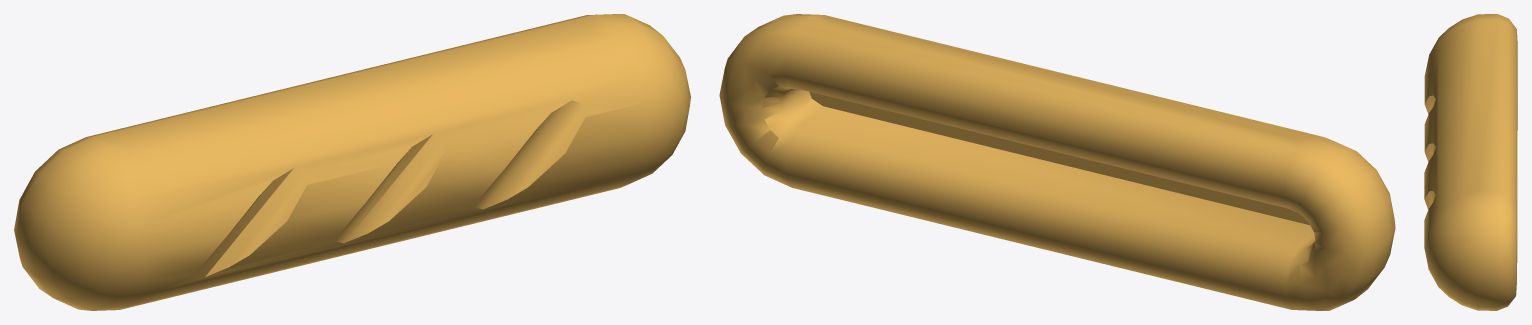
3 views of the same model, side by side, from view 1: azimuth 30°, elevation 25°; view 2: azimuth 150°, elevation 25°; view 3: azimuth 270°, elevation 25° (orthographic). The views are drawn at different scales.
Parts seen in each view (by area): view 1: SOLID-WHITE_012-material.083; view 2: SOLID-WHITE_012-material.083; view 3: SOLID-WHITE_012-material.083.
Part boxes in pixels (x1,y1,x2,y2): SOLID-WHITE_012-material.083: (14, 14, 690, 310); SOLID-WHITE_012-material.083: (719, 14, 1395, 310); SOLID-WHITE_012-material.083: (1424, 14, 1517, 310).
Bounding box in the file's own units: 421 × 99.13 × 73.65.
